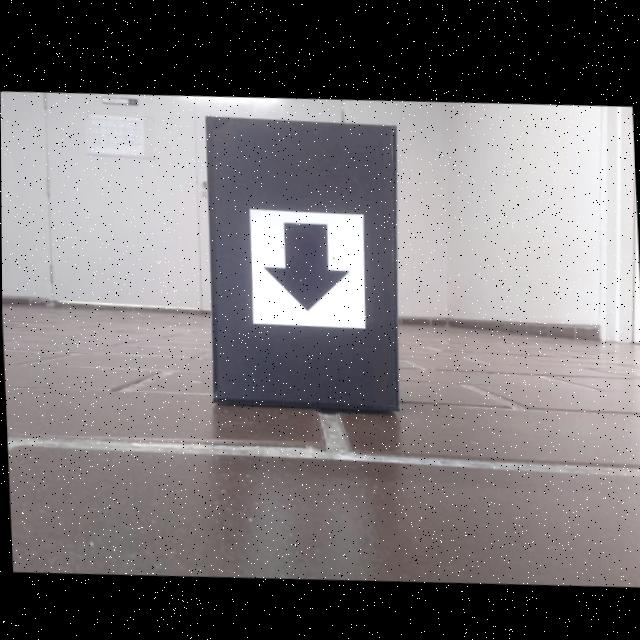DOWN: (261, 218, 351, 308)
